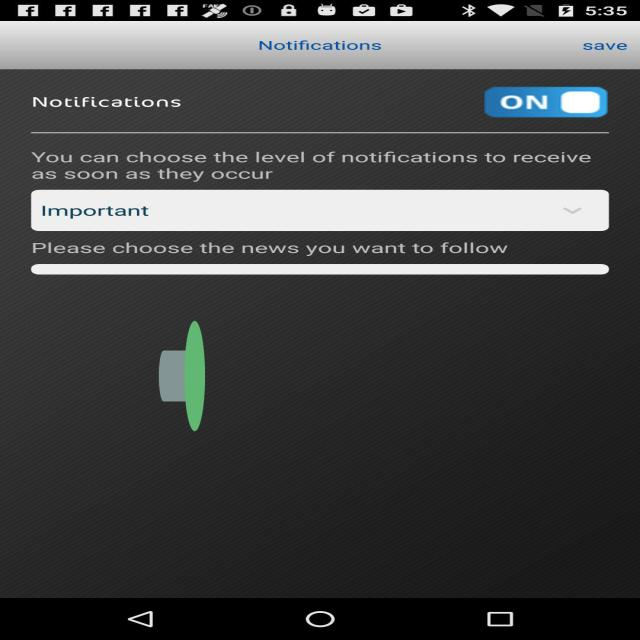social proof: (159, 253, 205, 499)
